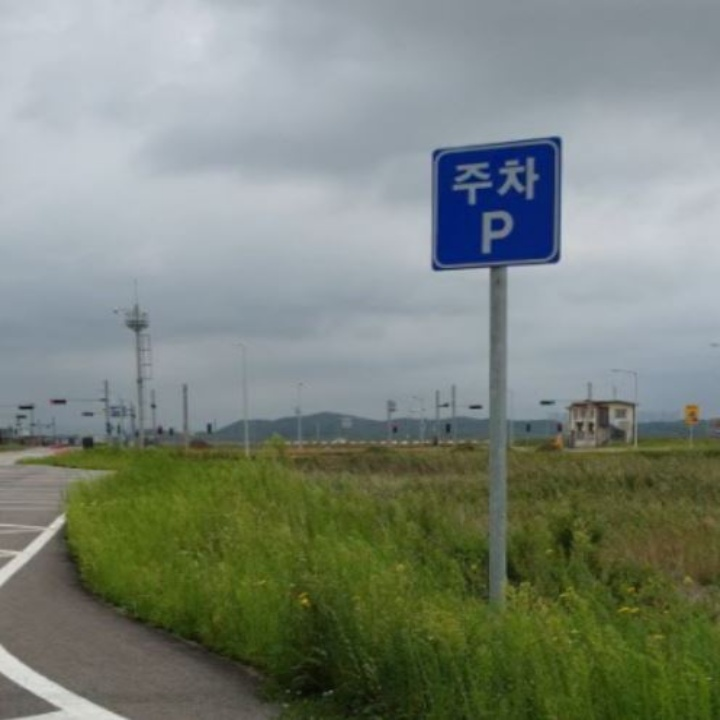parking: (475, 201, 518, 258)
